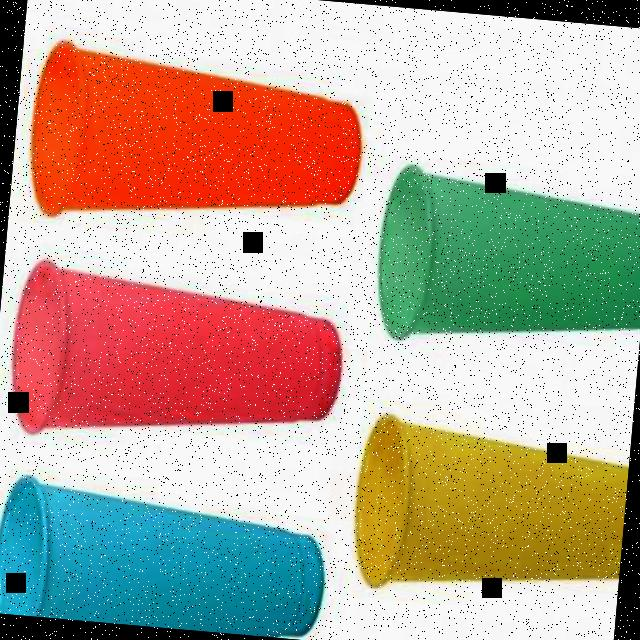plastic_cup: (22, 27, 372, 246), (6, 252, 350, 452), (348, 406, 630, 609), (367, 154, 640, 355), (0, 477, 335, 640)
